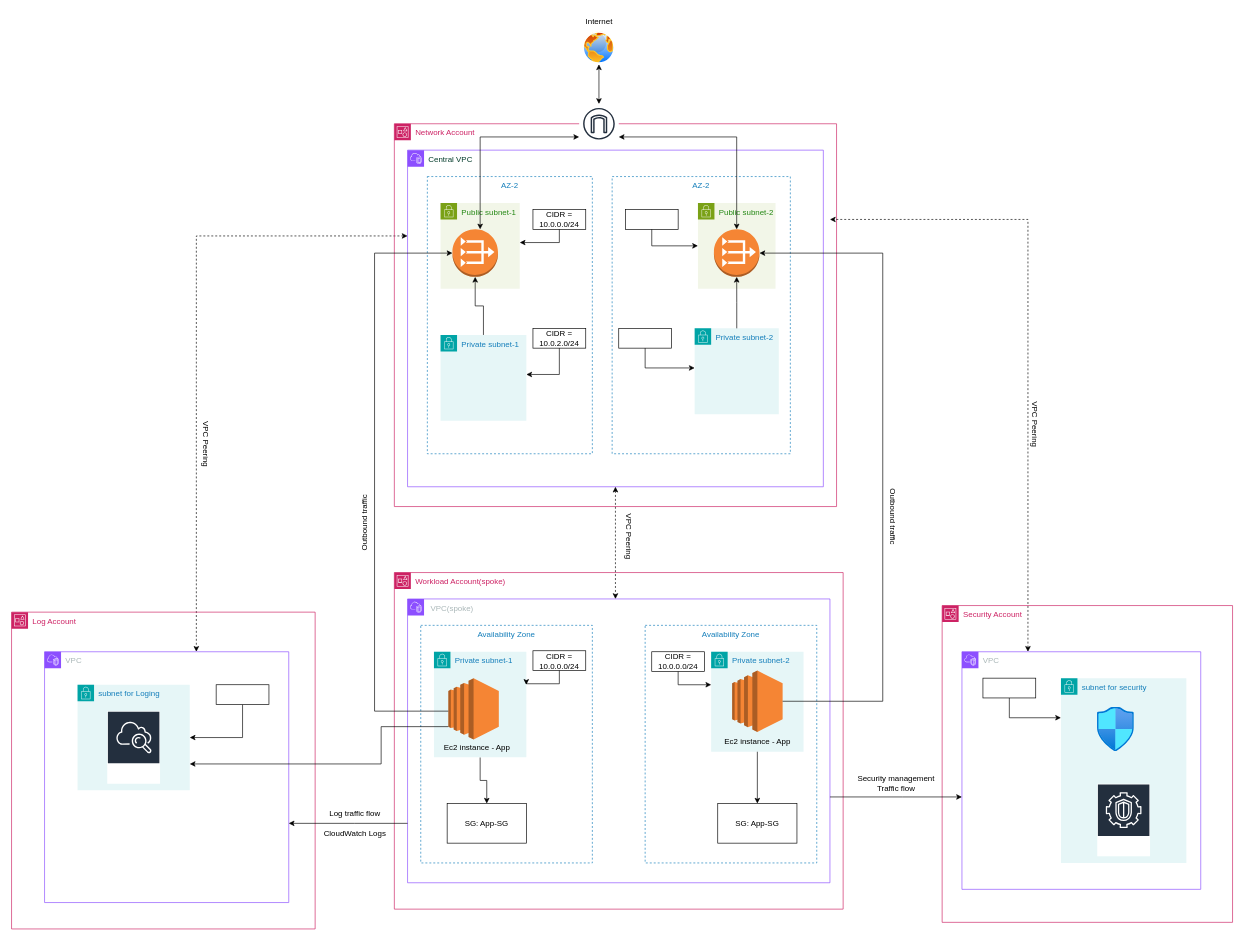
Some shapes in this 1244 by 941 pixel diagram are drawn without their labels. Here are the shapes that lost their labels. From the top down, the centre of each, then its label:
At point (598, 123): "Internet gateway".
At point (651, 219): "CIDR = 10.0.1.0/24".
At point (645, 338): "CIDR = 10.0.3.0/24".
At point (242, 694): "CIDR = 10.3.1.0/24".
At point (1009, 687): "CIDR = 10.4.1.0/24".
At point (133, 747): "Amazon CloudWatch".
At point (1123, 819): "Amazon GuardDuty".
